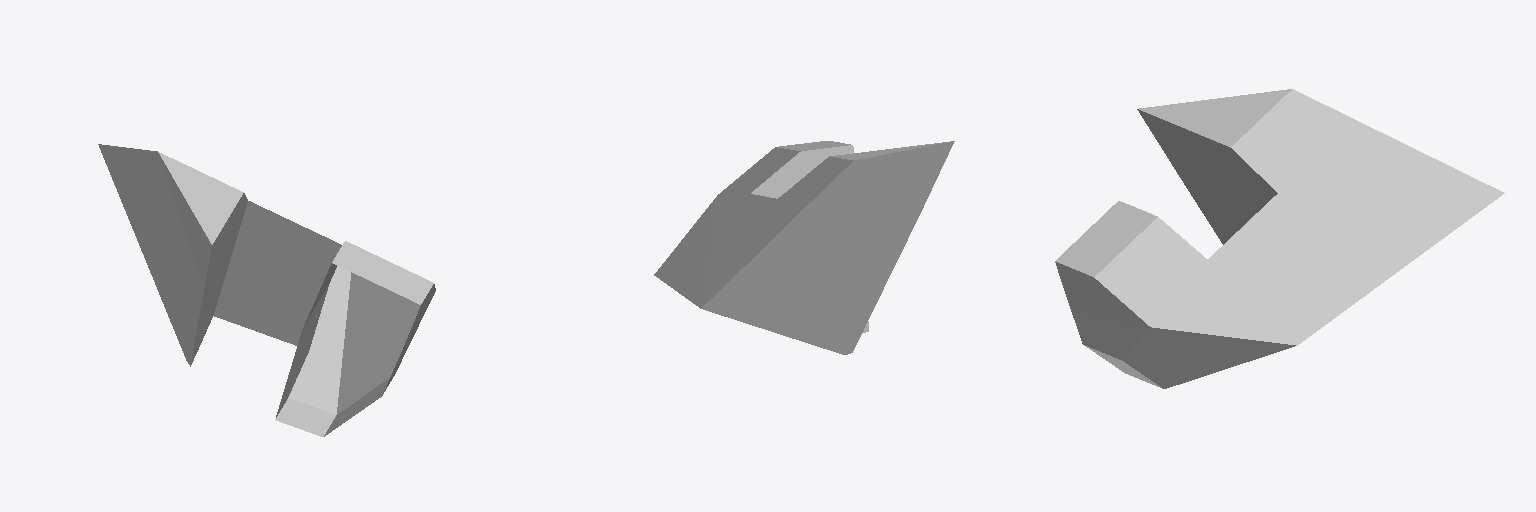
The model's file is li-fang-ti-.001_cell.001.obj.
3 views of the same model, side by side, from view 1: azimuth 30°, elevation 25°; view 2: azimuth 150°, elevation 25°; view 3: azimuth 270°, elevation 25° (orthographic).
Visible parts, largest first — view 1: 立方体.001_cell.001; view 2: 立方体.001_cell.001; view 3: 立方体.001_cell.001.
Boxes of the visible parts, box(x1,y1,x2,y2) form: 立方体.001_cell.001: box(98, 144, 435, 436); 立方体.001_cell.001: box(654, 141, 954, 354); 立方体.001_cell.001: box(1055, 89, 1504, 388).
Bounding box in the file's own units: 0.1543 × 0.1563 × 0.2608.